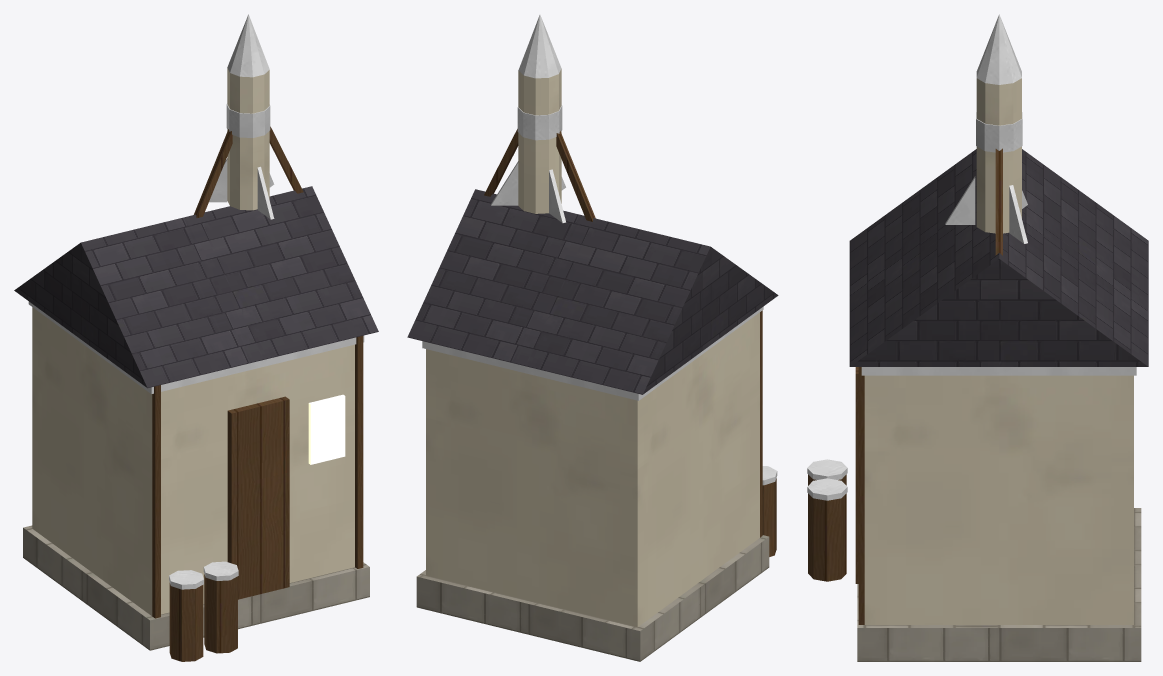
The model's file is protocol.rocket-pool.glb.
3 renders of one model, left to right at view 1: azimuth 30°, elevation 25°; view 2: azimuth 150°, elevation 25°; view 3: azimuth 270°, elevation 25°, orthographic. The views are drawn at different scales.
Parts seen in each view (by area): view 1: building.protocol.rocket-pool; view 2: building.protocol.rocket-pool; view 3: building.protocol.rocket-pool.
Part boxes in pixels (x1,y1,x2,y2): building.protocol.rocket-pool: (14, 14, 378, 661); building.protocol.rocket-pool: (407, 14, 778, 661); building.protocol.rocket-pool: (807, 14, 1148, 661).
Bounding box in the file's own units: 2 × 4.55 × 2.28.
Materials: 7 (6 with a texture image).
